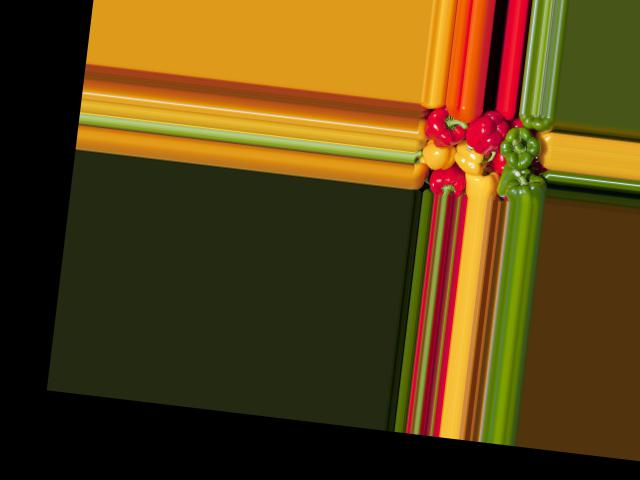bell_pepper: (516, 111, 555, 137)
